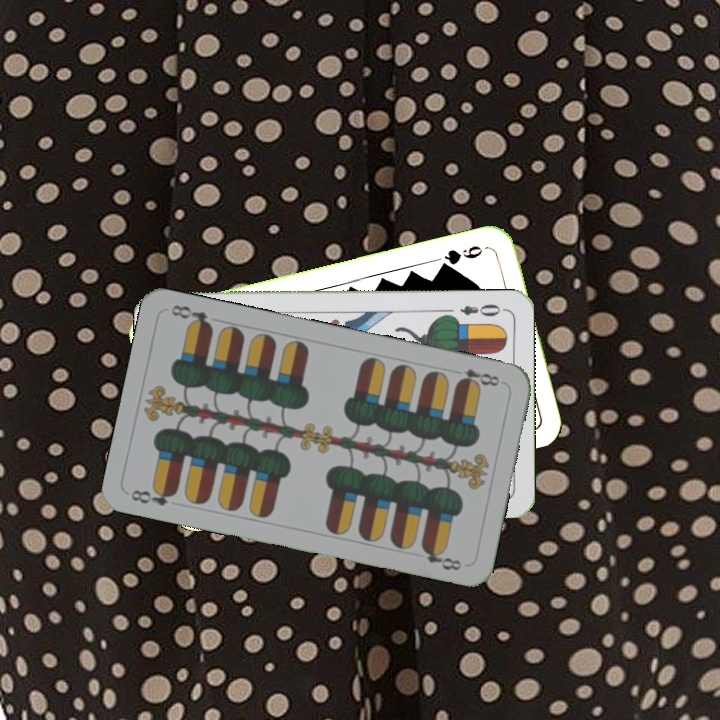E8: (126, 483, 179, 509), (453, 364, 503, 391)
EO: (456, 300, 503, 319)
G9: (436, 241, 492, 272)
